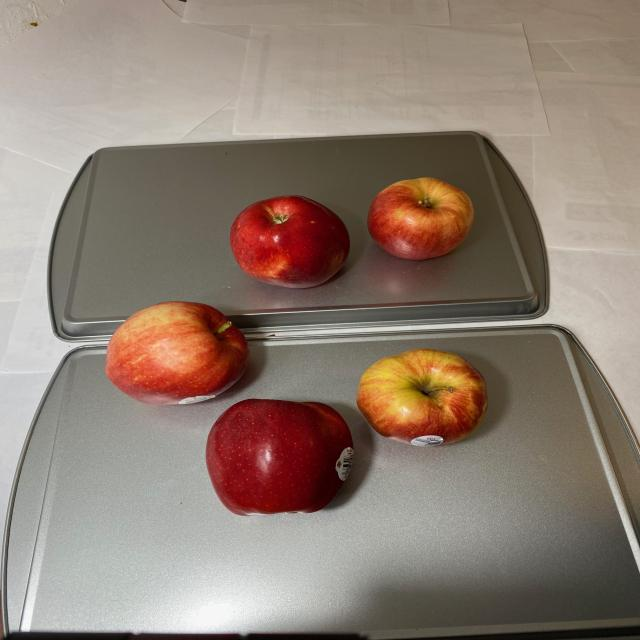apple: (100, 302, 488, 518), (225, 175, 476, 288)
